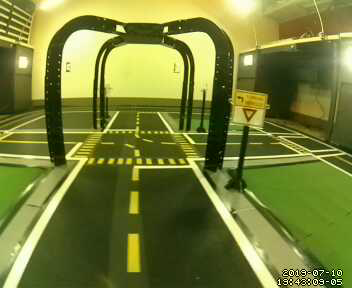Turn Yield: (231, 89, 268, 129)
